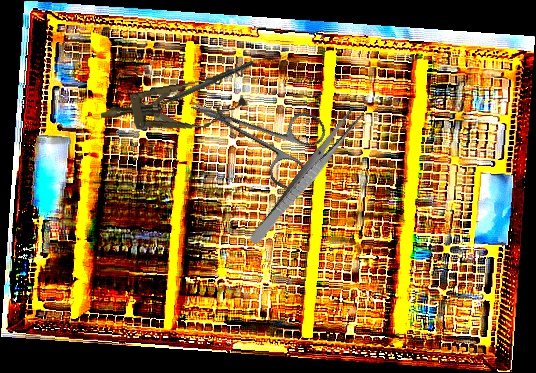Chopper: (143, 52, 256, 115)
Dressing Forceps: (247, 106, 364, 249)
Iris Scissors: (176, 66, 331, 195)
Speculum: (96, 64, 252, 144)
